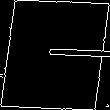L_W: (3, 38, 107, 72)
